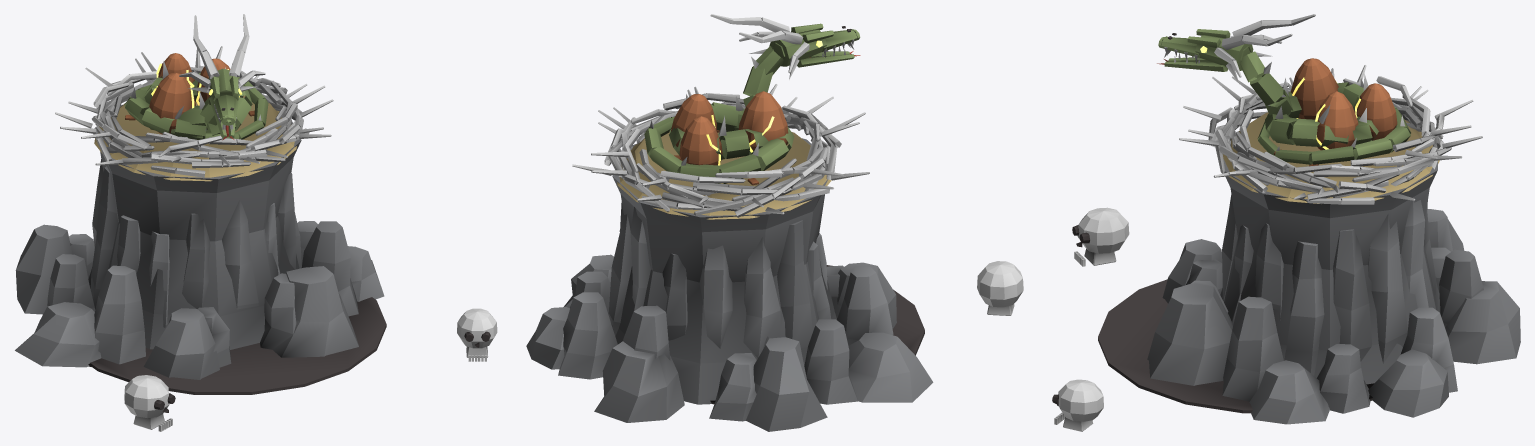
File: drakon-nest-l1.glb
3 renders of one model, left to right at view 1: azimuth 30°, elevation 25°; view 2: azimuth 150°, elevation 25°; view 3: azimuth 270°, elevation 25°, orthographic. The views are drawn at different scales.
Visible parts, largest first — view 1: drakon-nest-l1; view 2: drakon-nest-l1; view 3: drakon-nest-l1.
Part boxes in pixels (x1,y1,x2,y2): drakon-nest-l1: [15, 14, 497, 431]; drakon-nest-l1: [526, 14, 1023, 431]; drakon-nest-l1: [1052, 14, 1520, 431].
Bounding box in the file's own units: 1.07 × 0.8545 × 1.12.
